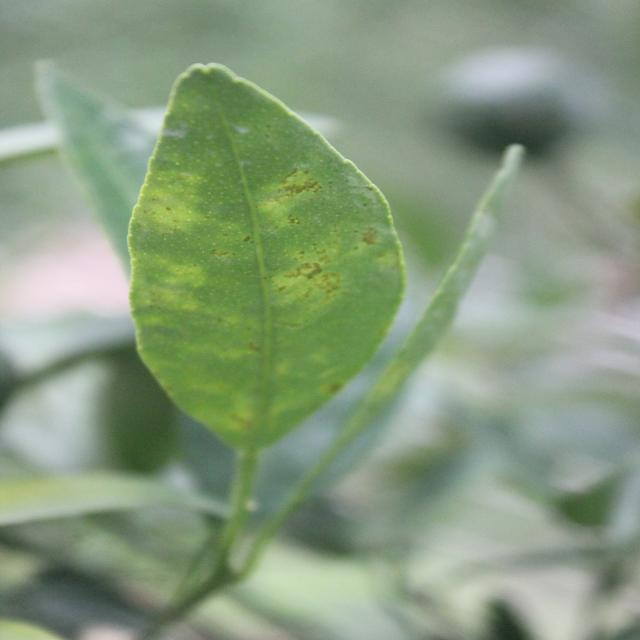canker: (132, 76, 397, 444)
